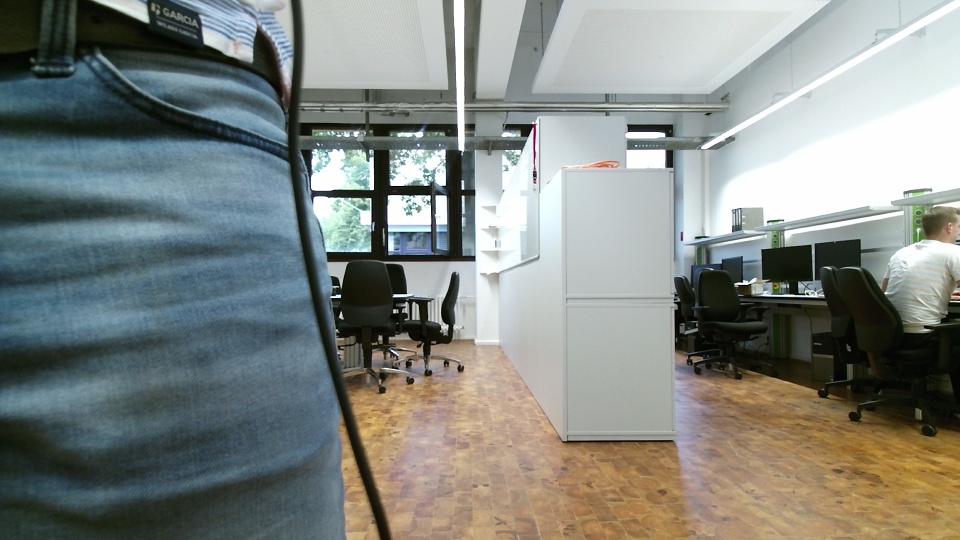person: (873, 200, 960, 428)
